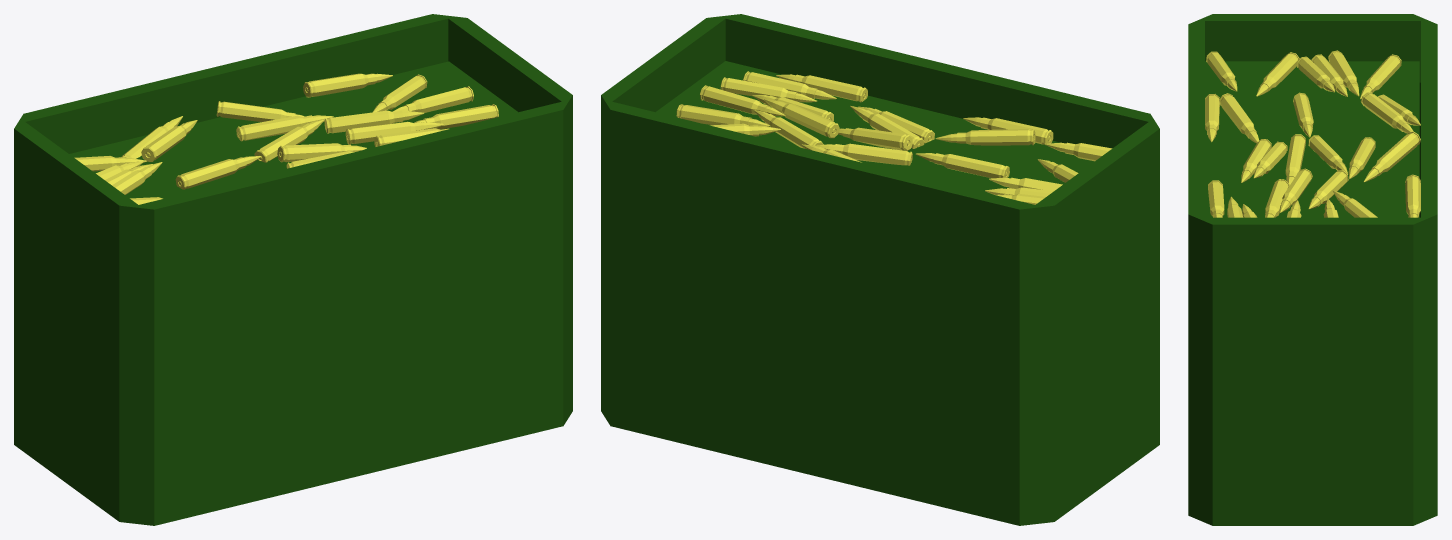
Rendered from AmmoCan.fbx.
The picture shows the model from 3 angles, left to right: view 1: azimuth 30°, elevation 25°; view 2: azimuth 150°, elevation 25°; view 3: azimuth 270°, elevation 25°; orthographic projection. The views are drawn at different scales.
Parts seen in each view (by area): view 1: Ammo_Can; view 2: Ammo_Can; view 3: Ammo_Can.
Part boxes in pixels (bbox=[...]): Ammo_Can: bbox=[14, 14, 572, 525]; Ammo_Can: bbox=[601, 14, 1159, 525]; Ammo_Can: bbox=[1188, 14, 1437, 525].
Bounding box in the file's own units: 30 × 20 × 15.
